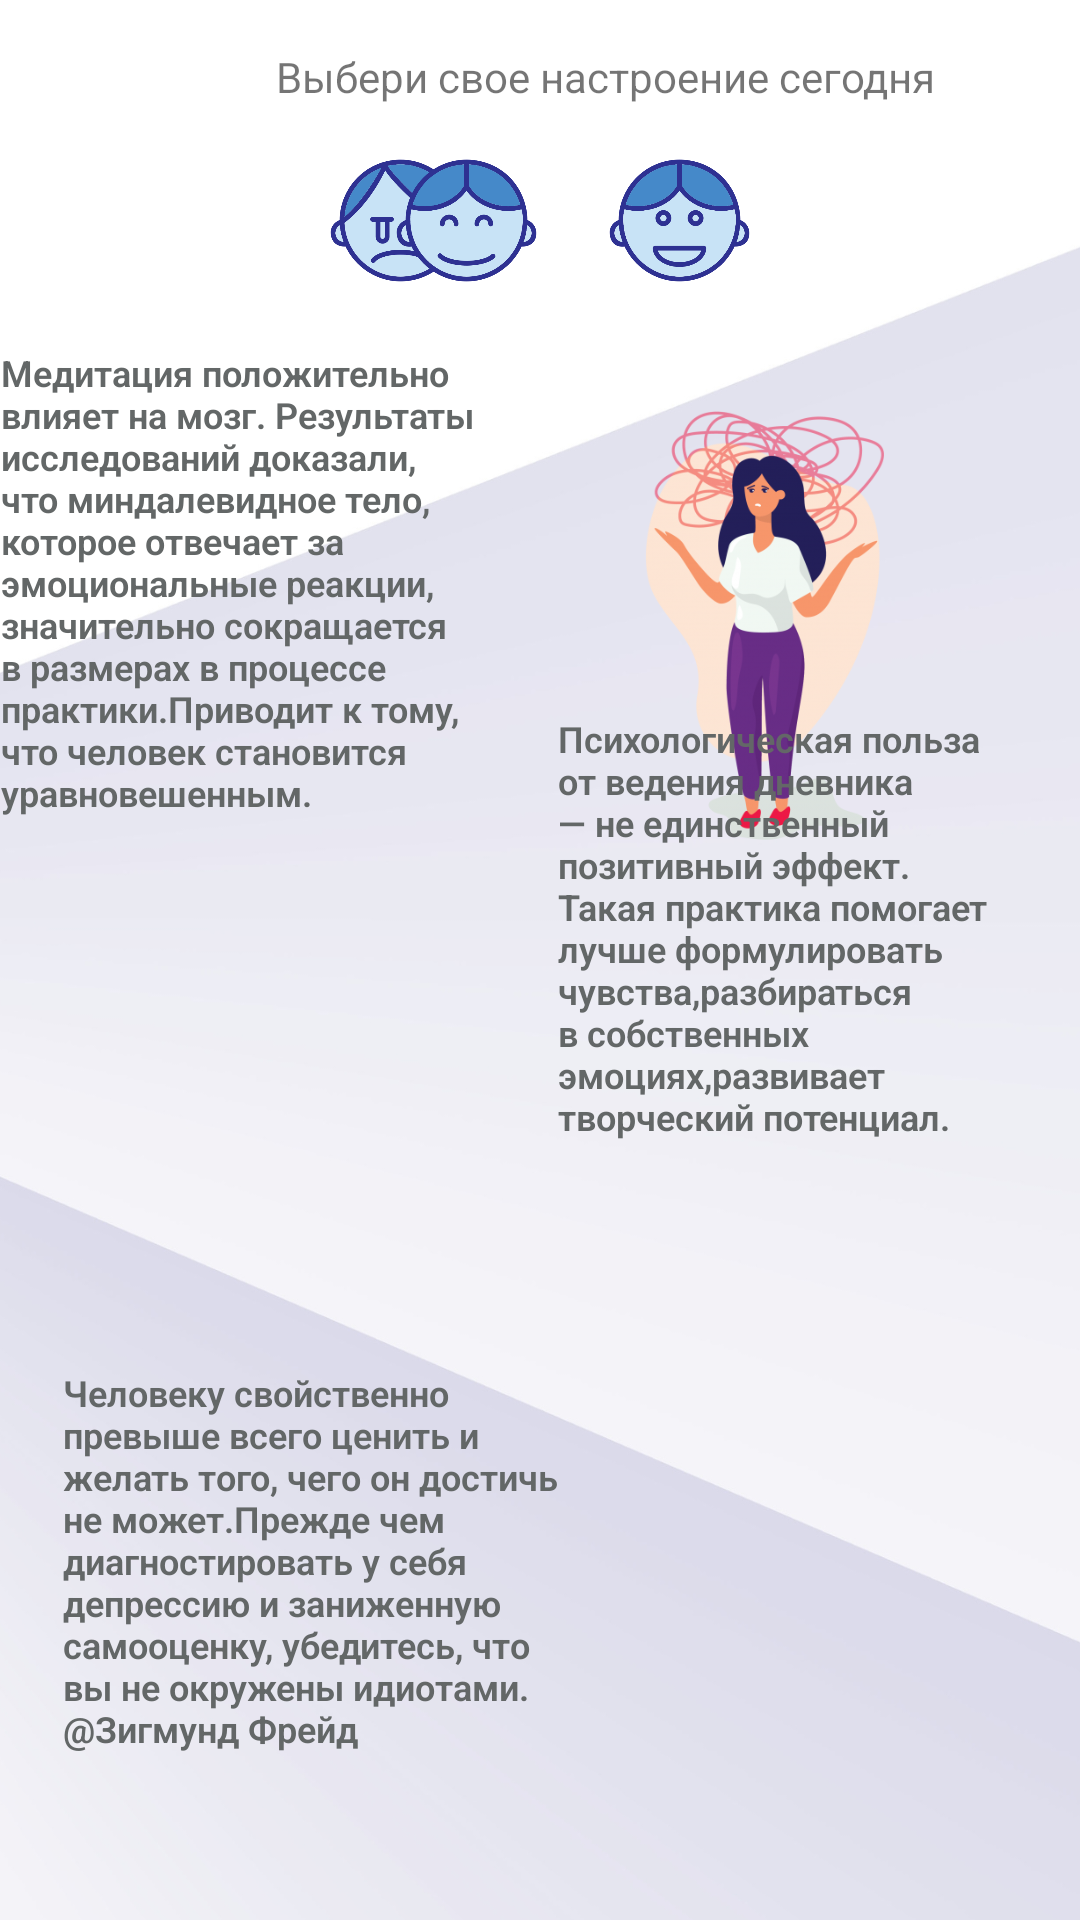

Icon bounding boxes for this 1080x1920 phone screenshot, format [left=x1, top=y1, right=x2, bottom=y2]:
veryhappy: [left=609, top=159, right=750, bottom=282]
